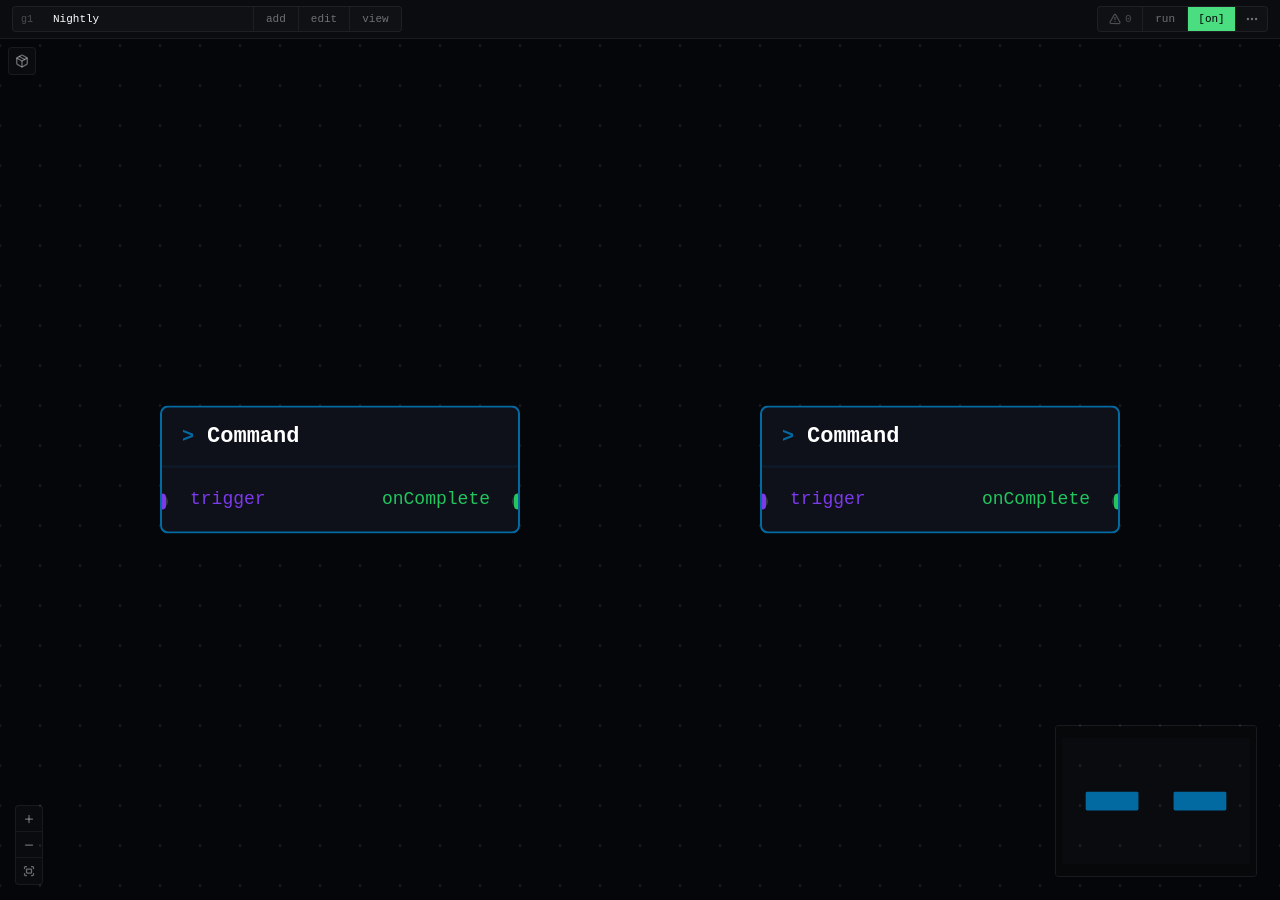
Test: the toolbar menus drive the editor › saves a copy with a blank id and moves onto it
This screenshot has width=1280, height=900.
Check: the number of elements with class "react-flow__node" is 2, box [160,406,520,534]; [760,406,1120,534]
What coordinates should you click on to do the following:
click the button named "Graph actions"
I would click on:
 (1252, 19)
Its box is [1236,7,1267,31].
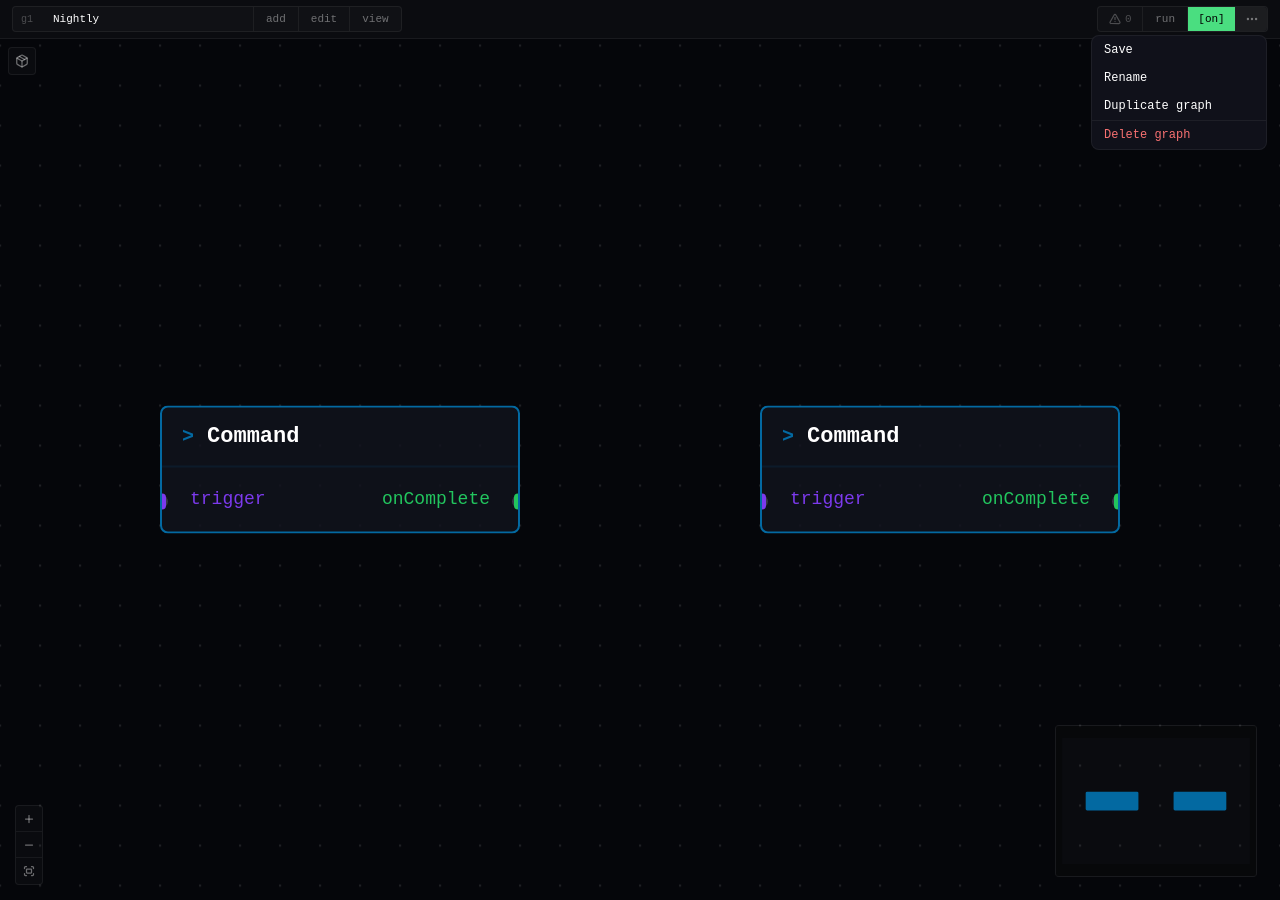
What coordinates should you click on to do the following:
click the button "Duplicate graph"
I would click on:
 (1179, 106)
Its box is [1092,92,1266,120].
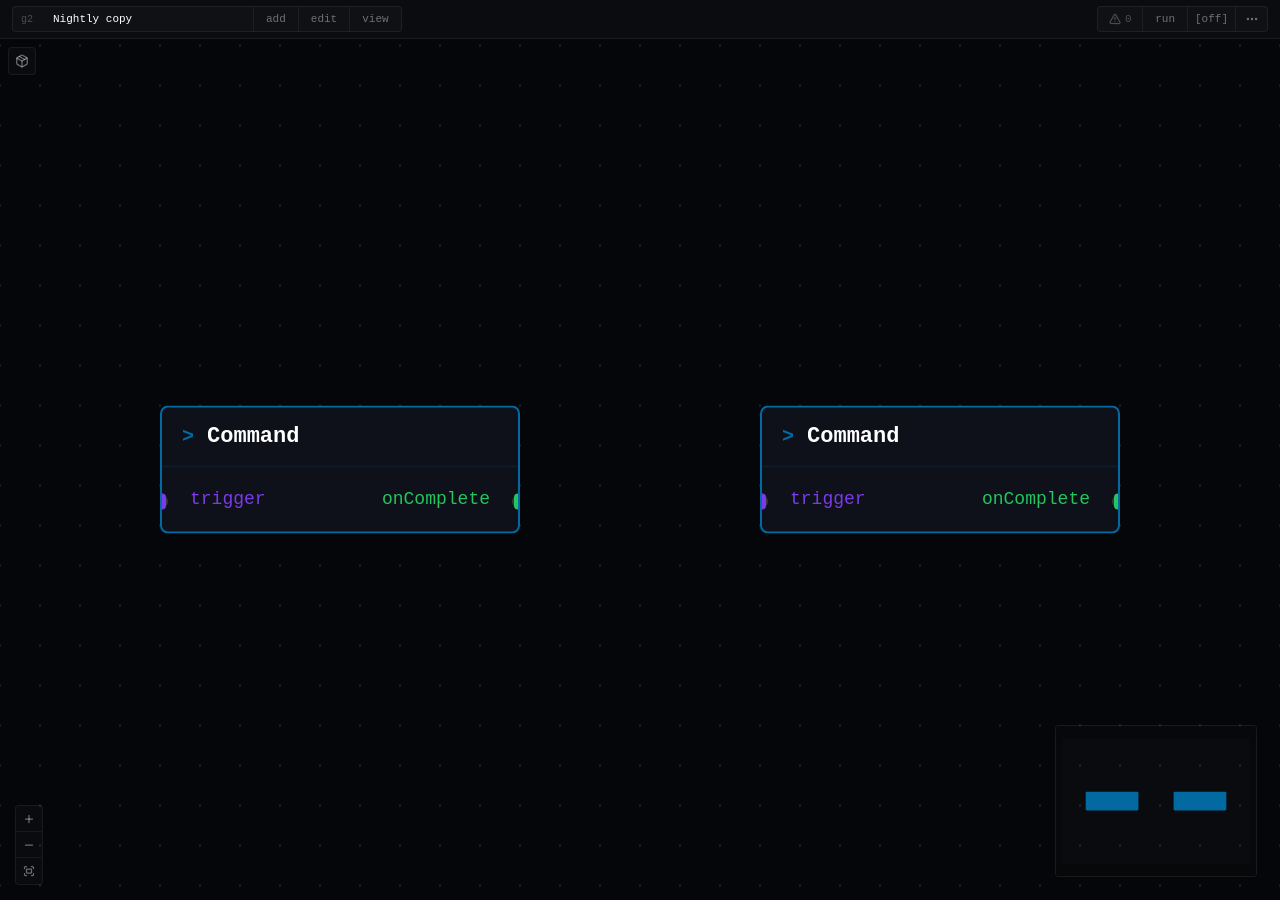
Check: the text "Nightly copy" is shown, box [53,13,132,25]
Check: the button "g2 Nightly copy" is shown, box [13,7,253,31]
